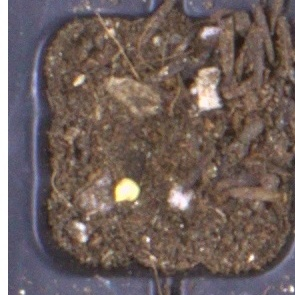chilli seed: (113, 177, 141, 203)
